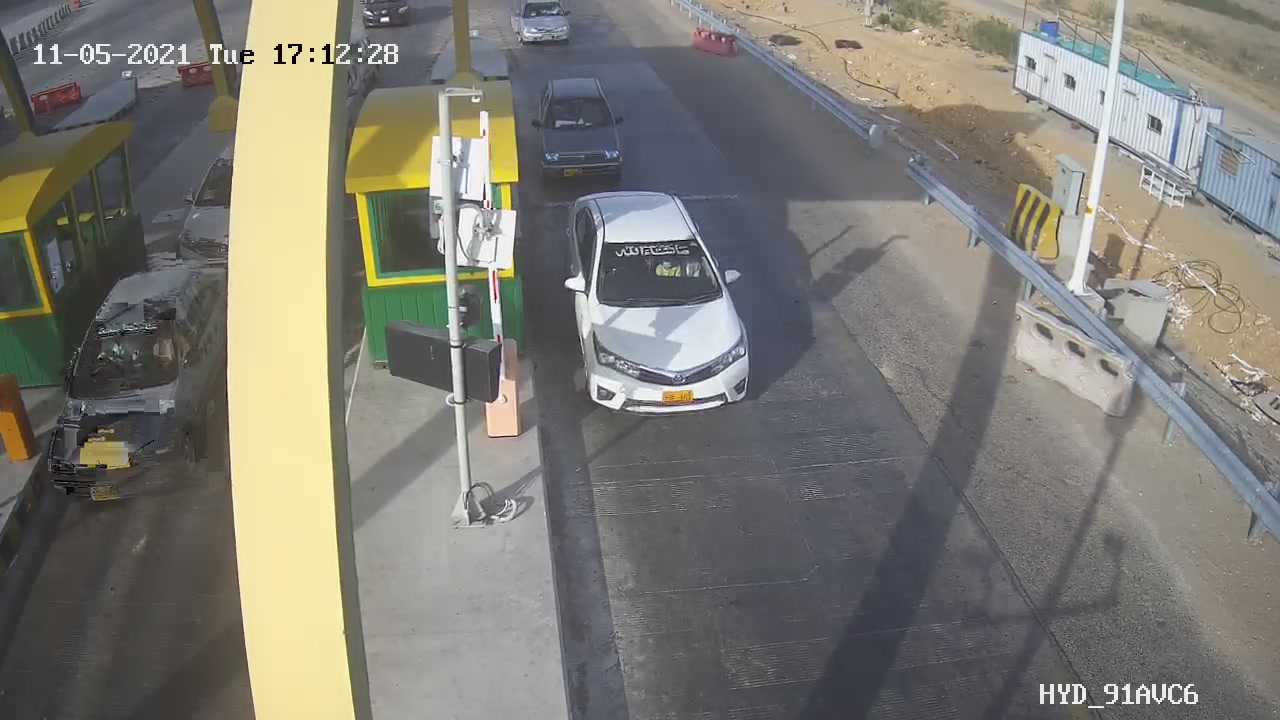F1: (543, 173, 785, 436), (522, 66, 642, 190)
